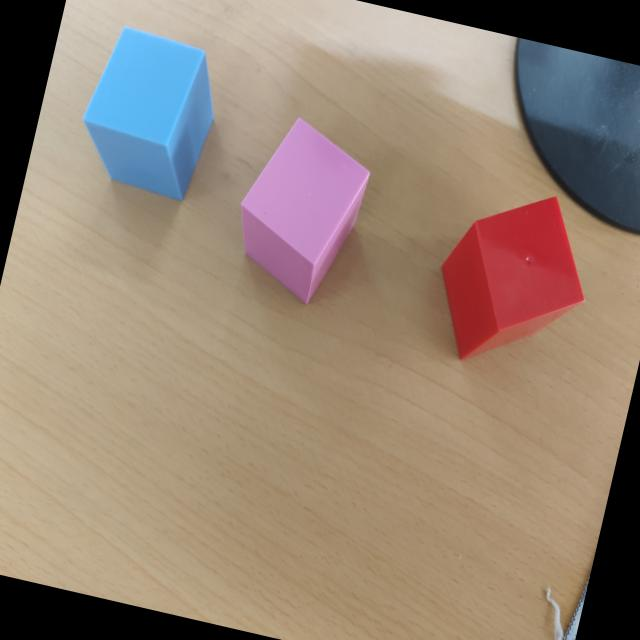blue: (81, 27, 214, 203)
pink: (239, 119, 370, 305)
red: (438, 197, 584, 361)
